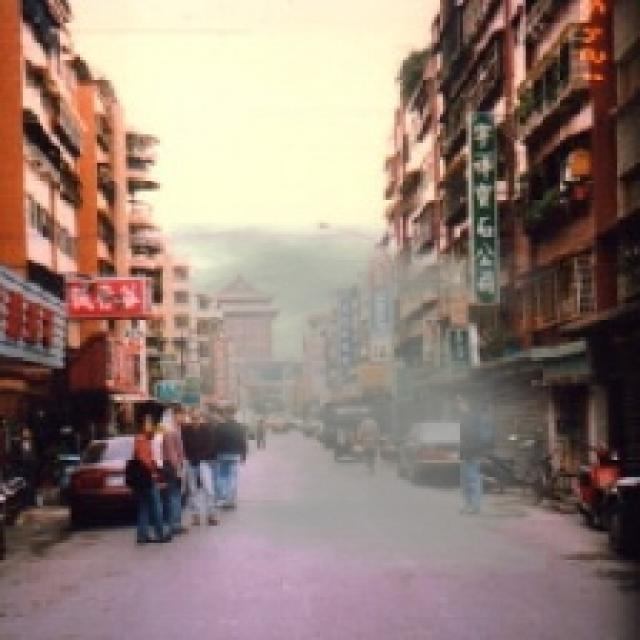smoke: (163, 223, 551, 574)
